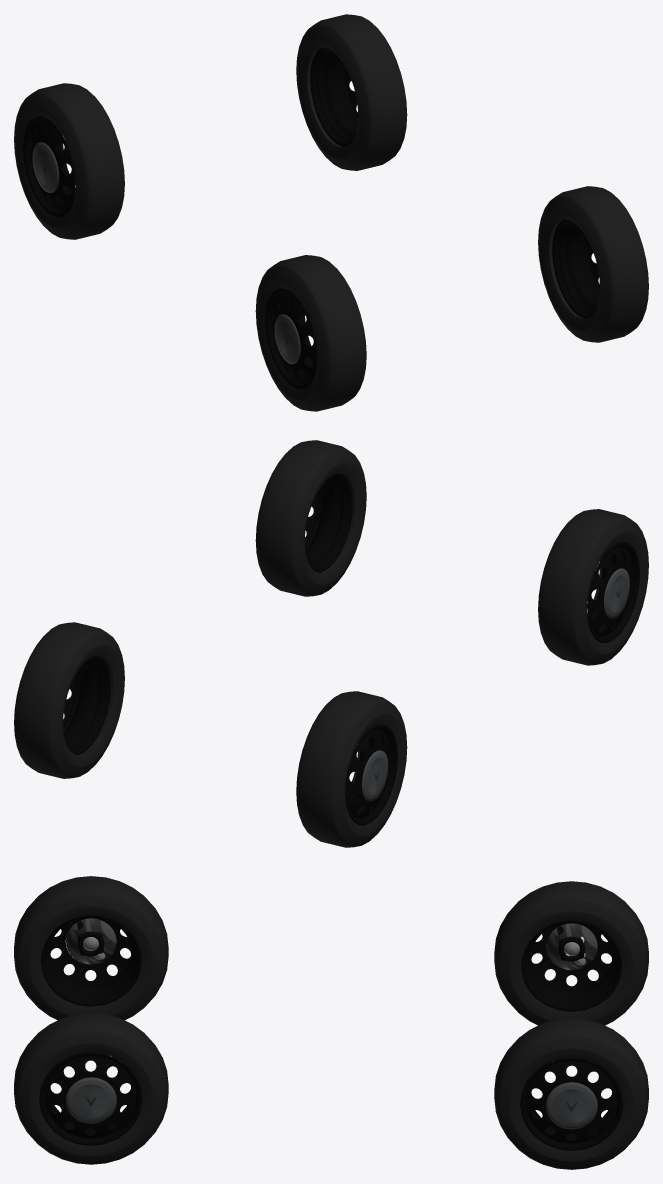
Rendered from Bánh gốc.glb.
3 renders of one model, top to bottom at view 1: azimuth 30°, elevation 25°; view 2: azimuth 150°, elevation 25°; view 3: azimuth 270°, elevation 25°, orthographic.
Visible parts, largest first — view 1: Lốp L, Lốp R, Vành L, Vành R, NắpR; view 2: Lốp L, Lốp R, Vành L, Vành R, NắpR; view 3: Lốp L, Lốp R, Vành R, Vành L, NắpL, NắpR.
Part boxes in pixels (<box>): Lốp L: <box>296,14,648,342</box>; Lốp R: <box>14,83,366,411</box>; Vành L: <box>310,48,599,318</box>; Vành R: <box>23,116,317,389</box>; NắpR: <box>32,142,300,364</box>; Lốp L: <box>14,440,366,778</box>; Lốp R: <box>296,509,648,847</box>; Vành L: <box>63,473,352,754</box>; Vành R: <box>345,542,640,825</box>; NắpR: <box>361,568,629,801</box>; Lốp L: <box>14,1013,648,1169</box>; Lốp R: <box>14,876,648,1025</box>; Vành R: <box>40,915,622,1011</box>; Vành L: <box>39,1052,623,1150</box>; NắpL: <box>66,1077,597,1129</box>; NắpR: <box>66,918,597,970</box>.
Size of the model in its own units: 0.994 by 0.4181 by 1.66.
Materials: 5 (1 with a texture image).
